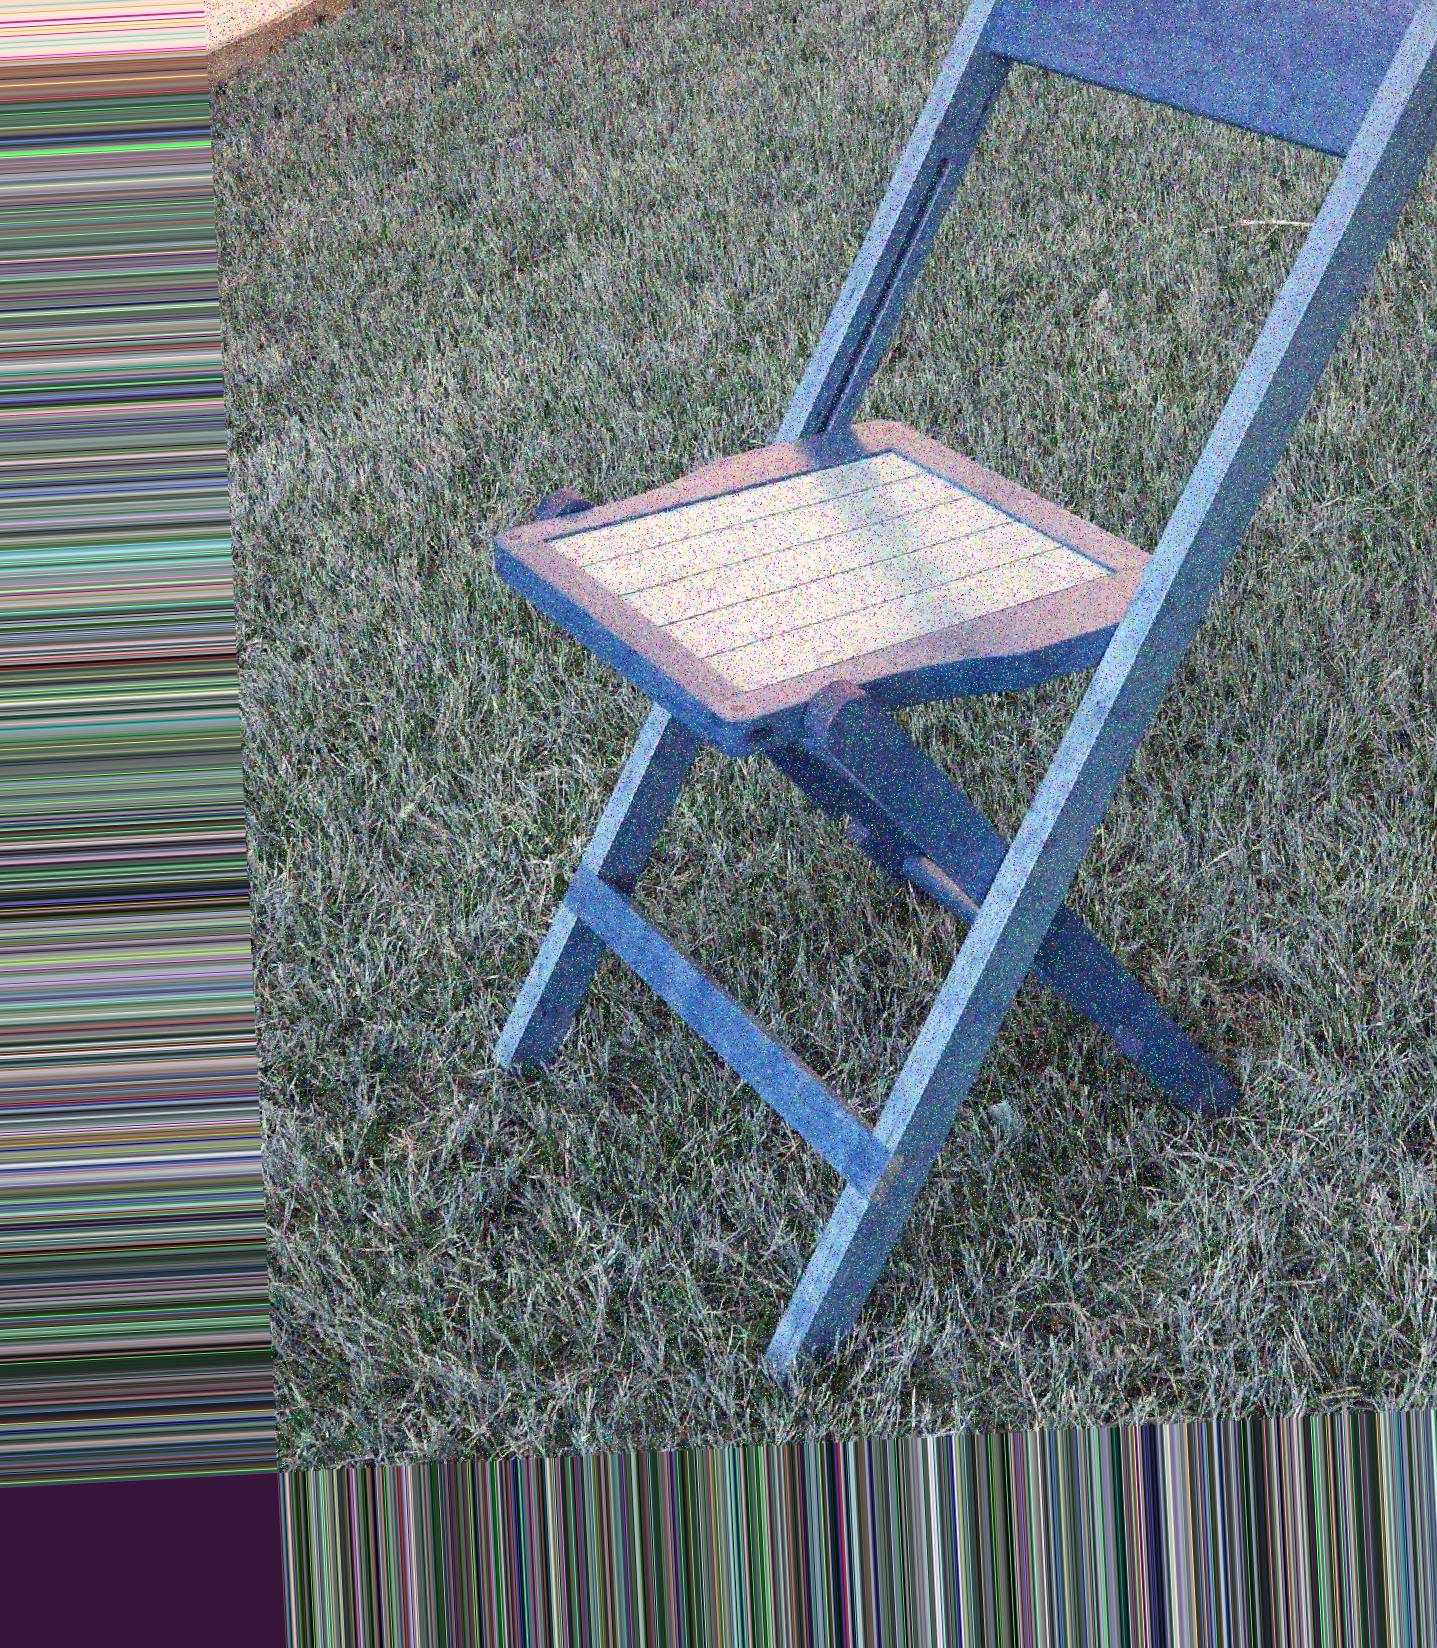chair: (485, 1, 1437, 1382)
